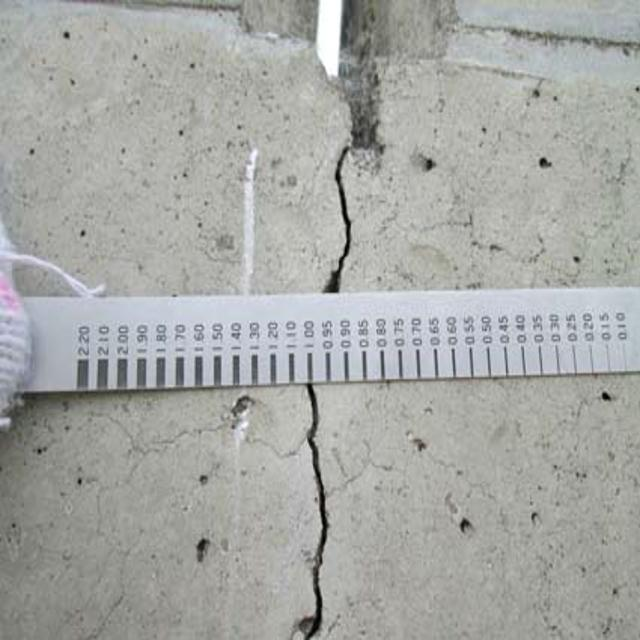crack: (277, 394, 353, 640), (307, 67, 377, 309)
